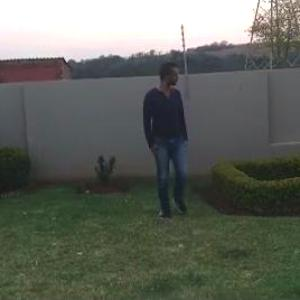follow: (146, 55, 198, 237)
